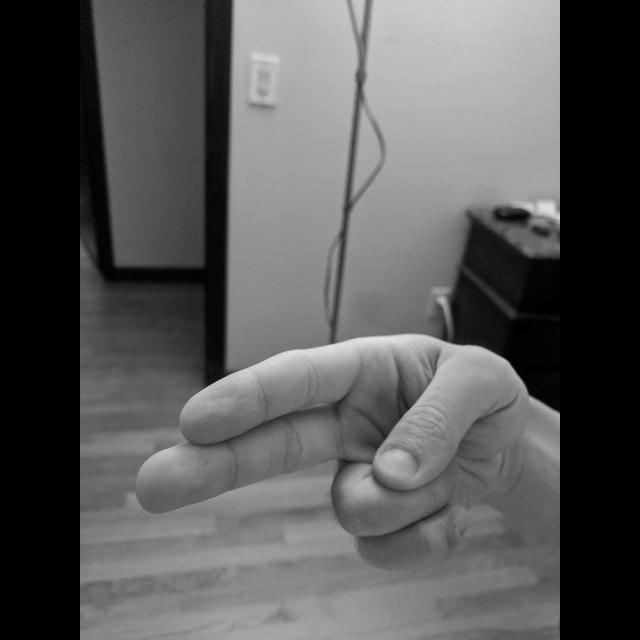H: (129, 328, 533, 582)
